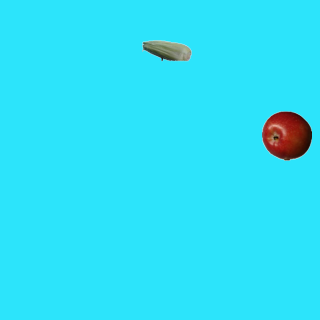Apple Braeburn: (261, 110, 311, 160)
Corn Husk: (141, 25, 191, 75)
